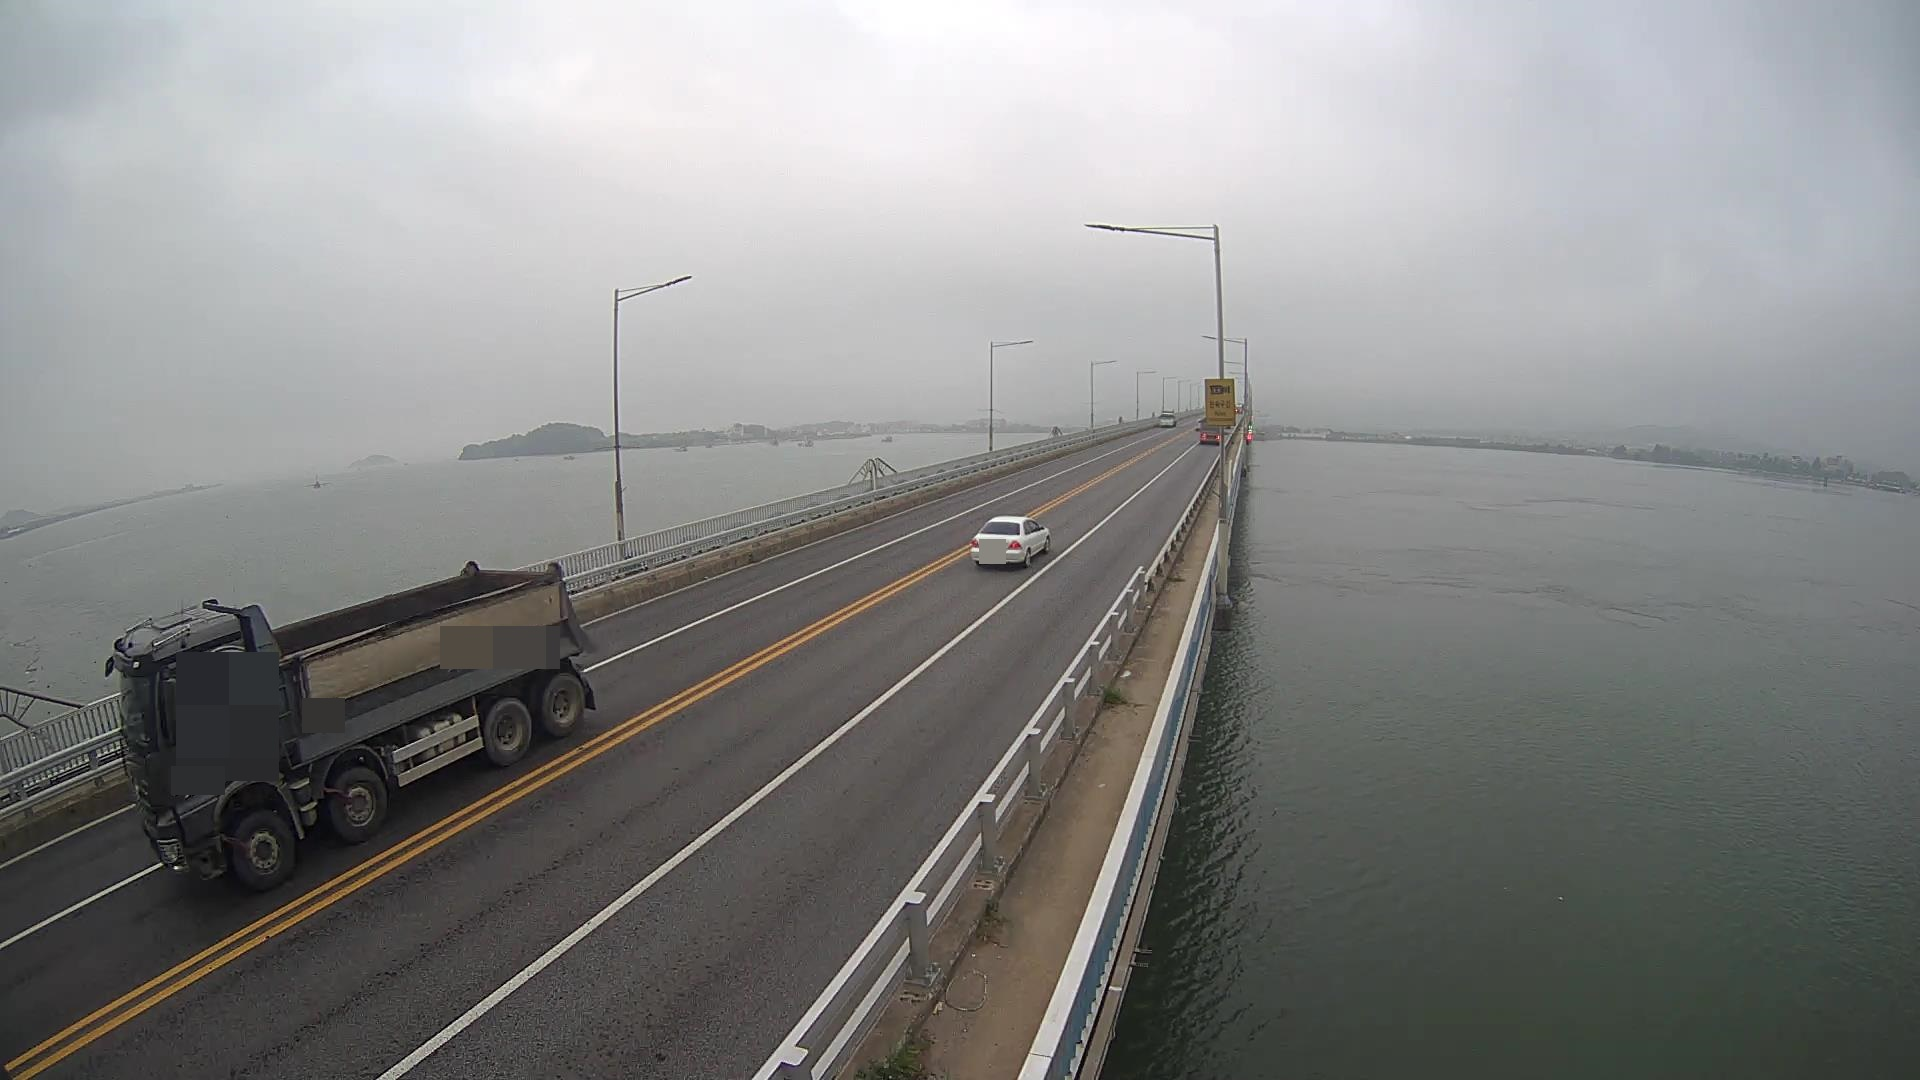정상차량: (102, 560, 597, 890)
